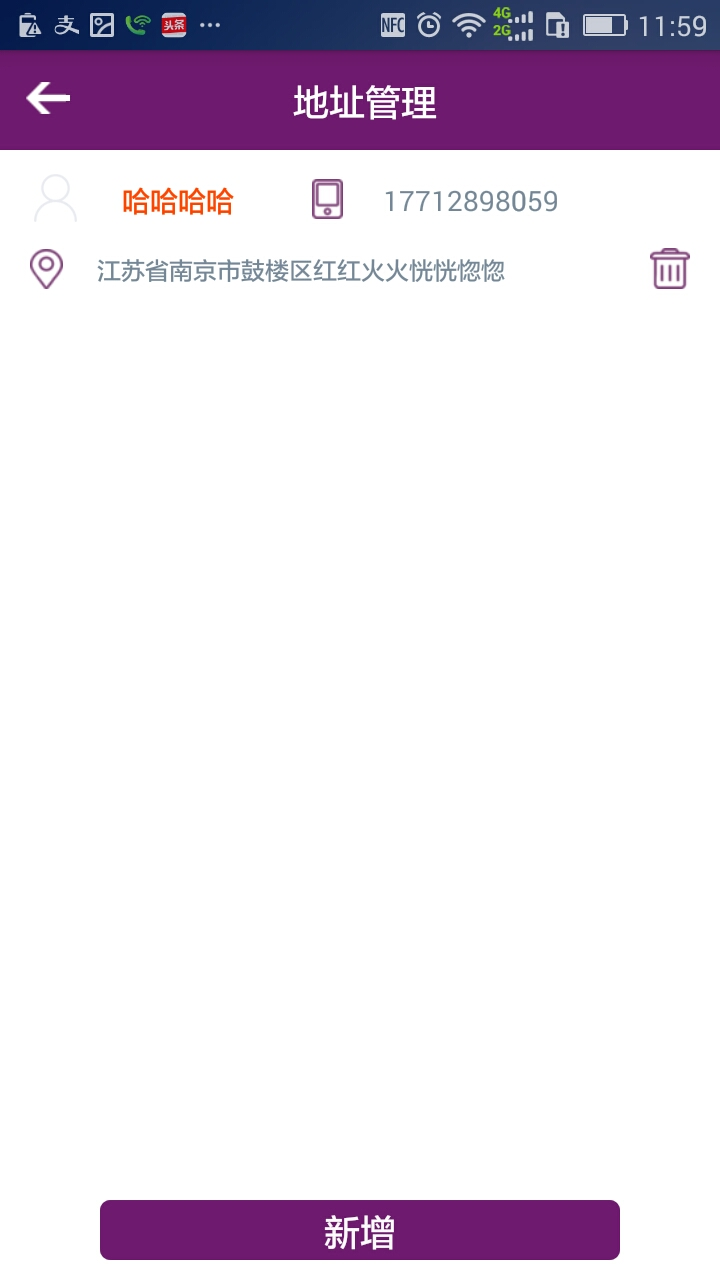button: (76, 1191, 643, 1270)
imgbutton: (638, 239, 700, 303), (11, 80, 90, 124)
textview: (78, 246, 576, 302)
